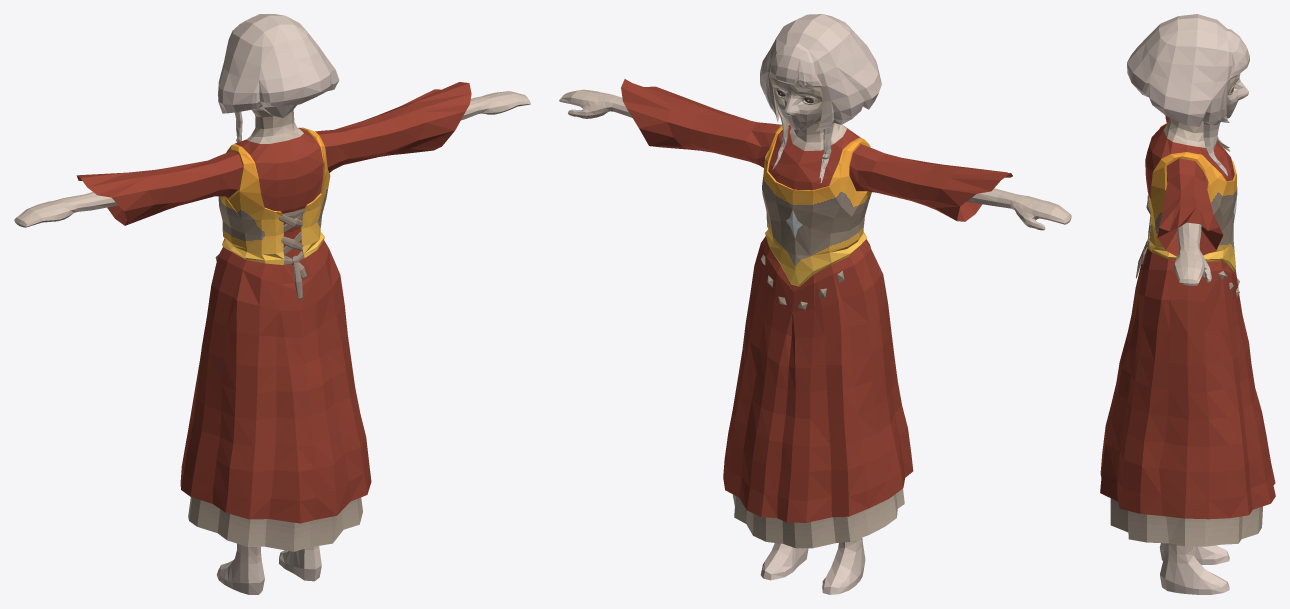
The model's file is CharSkyNPC_Body_AP16OrangeLove.glb.
3 renders of one model, left to right at view 1: azimuth 30°, elevation 25°; view 2: azimuth 150°, elevation 25°; view 3: azimuth 270°, elevation 25°, orthographic.
Visible parts, largest first — view 1: CharSkyNPC_Body_AP16OrangeLove; view 2: CharSkyNPC_Body_AP16OrangeLove; view 3: CharSkyNPC_Body_AP16OrangeLove.
Part boxes in pixels (<box>): CharSkyNPC_Body_AP16OrangeLove: <box>14,14,530,594</box>; CharSkyNPC_Body_AP16OrangeLove: <box>559,14,1071,594</box>; CharSkyNPC_Body_AP16OrangeLove: <box>1100,14,1275,594</box>.
Size of the model in its own units: 13.89 by 14.56 by 4.17.
Materials: 1 (1 with a texture image).
